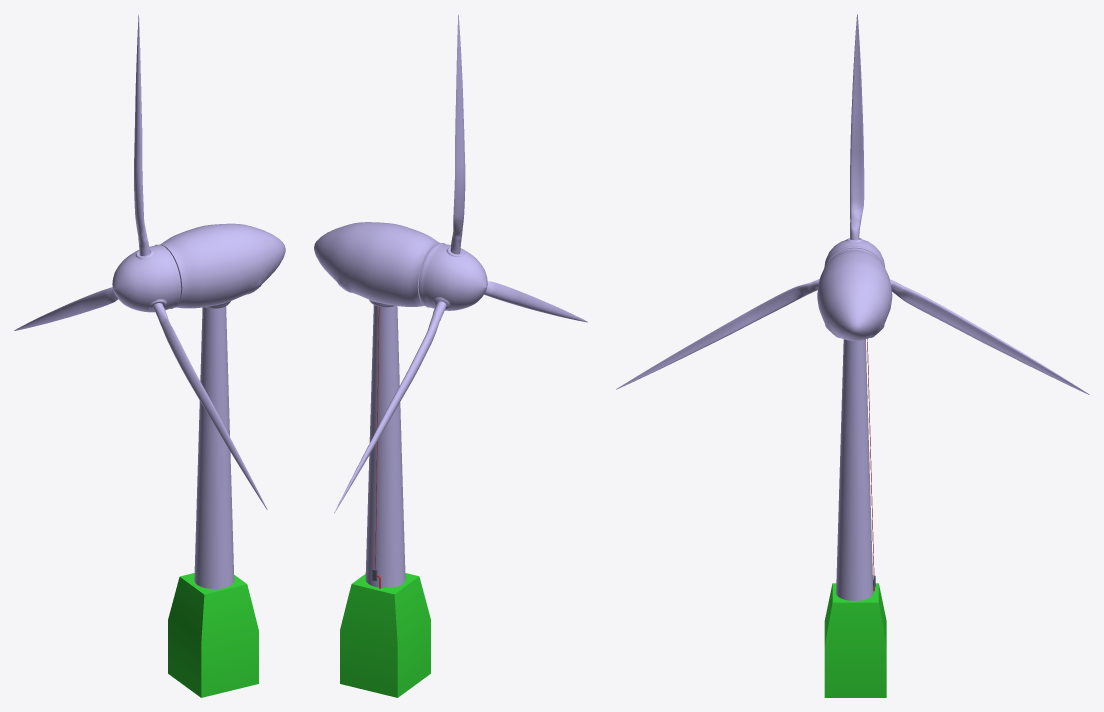
File: turbine.obj
3 renders of one model, left to right at view 1: azimuth 30°, elevation 25°; view 2: azimuth 150°, elevation 25°; view 3: azimuth 270°, elevation 25°, orthographic. The views are drawn at different scales.
Parts seen in each view (by area): view 1: base, pillar, body, rotateme front, rotateme blade2, rotateme blade1, rotateme blade3; view 2: base, pillar, body, rotateme front, rotateme blade1, rotateme blade3, rotateme blade2; view 3: pillar, base, body, rotateme blade1, rotateme blade3, rotateme blade2.
Part boxes in pixels (bbox=[...]): base: bbox=[168, 573, 258, 697]; pillar: bbox=[194, 306, 234, 588]; body: bbox=[160, 223, 285, 308]; rotateme front: bbox=[112, 244, 181, 312]; rotateme blade2: bbox=[153, 303, 267, 509]; rotateme blade1: bbox=[134, 14, 149, 255]; rotateme blade3: bbox=[14, 287, 117, 330]; base: bbox=[340, 573, 430, 697]; pillar: bbox=[365, 305, 405, 587]; body: bbox=[314, 222, 439, 306]; rotateme front: bbox=[418, 243, 487, 310]; rotateme blade1: bbox=[450, 14, 465, 254]; rotateme blade3: bbox=[334, 301, 446, 513]; rotateme blade2: bbox=[484, 281, 587, 322]; pillar: bbox=[836, 339, 873, 600]; base: bbox=[824, 583, 886, 697]; body: bbox=[817, 248, 892, 340]; rotateme blade1: bbox=[850, 14, 864, 240]; rotateme blade3: bbox=[890, 279, 1089, 394]; rotateme blade2: bbox=[616, 279, 819, 389].
Size of the model in its own units: 15.35 by 58.6 by 39.48.
